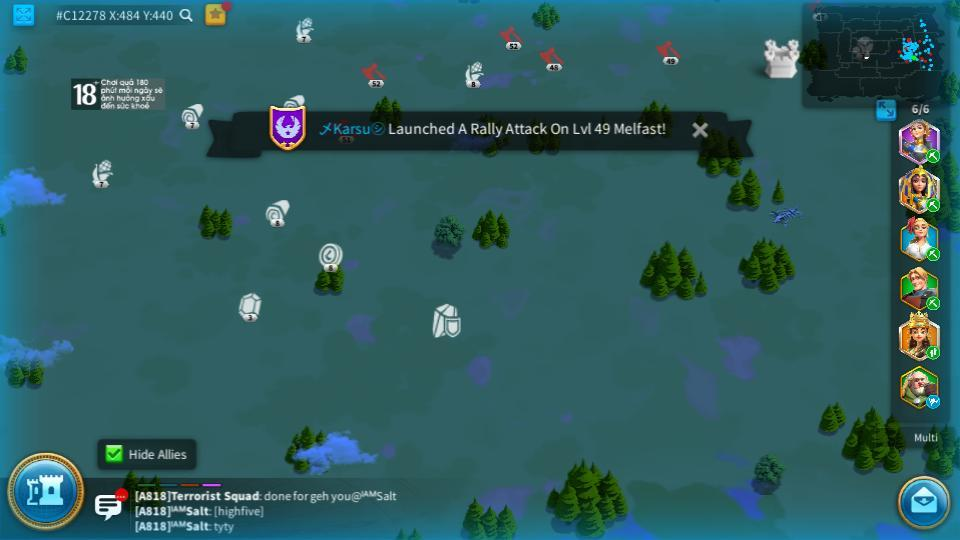gem-z-out: (237, 292, 263, 319)
march_farming: (925, 197, 941, 212), (925, 345, 941, 359), (925, 297, 941, 308), (925, 250, 941, 261)
march_marching: (925, 150, 941, 162)
